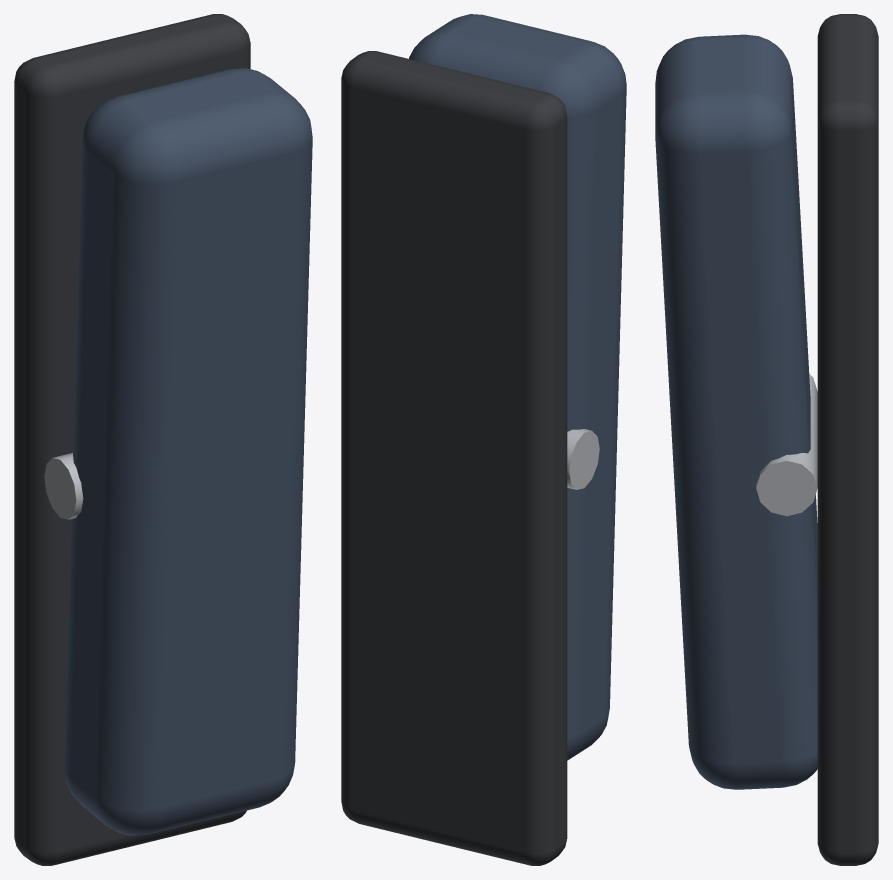
File: stapler.obj
3 renders of one model, left to right at view 1: azimuth 30°, elevation 25°; view 2: azimuth 150°, elevation 25°; view 3: azimuth 270°, elevation 25°, orthographic. The views are drawn at different scales.
Visible parts, largest first — view 1: stapler_1_900, stapler_0_0, stapler_2_2664; view 2: stapler_0_0, stapler_1_900, stapler_2_2664; view 3: stapler_1_900, stapler_0_0, stapler_2_2664.
Boxes of the visible parts, left/top/right/bottom form: stapler_1_900: left=64, top=68, right=312, bottom=835; stapler_0_0: left=14, top=14, right=250, bottom=865; stapler_2_2664: left=44, top=453, right=83, bottom=519; stapler_0_0: left=341, top=51, right=567, bottom=865; stapler_1_900: left=409, top=14, right=626, bottom=760; stapler_2_2664: left=567, top=429, right=599, bottom=489; stapler_1_900: left=655, top=34, right=817, bottom=789; stapler_0_0: left=817, top=14, right=878, bottom=865; stapler_2_2664: left=756, top=374, right=817, bottom=516.
Size of the model in its own units: 0.032 by 0.11 by 0.0292.
